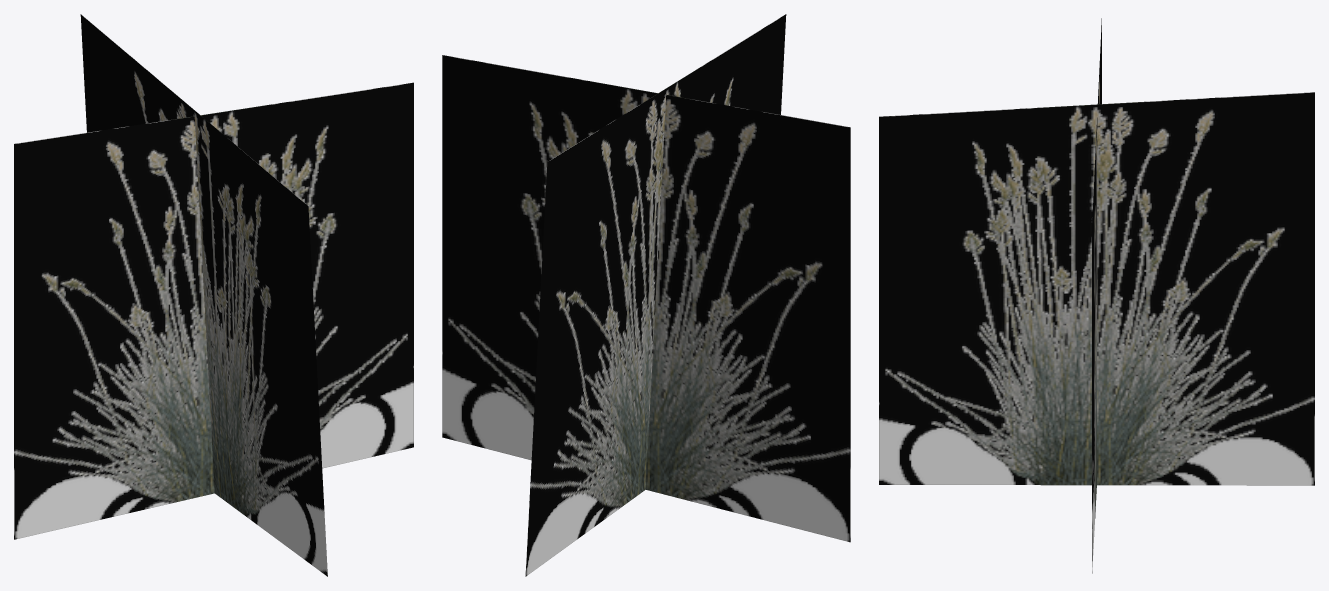
Rendered from dry_plant.glb.
The picture shows the model from 3 angles, left to right: view 1: azimuth 30°, elevation 25°; view 2: azimuth 150°, elevation 25°; view 3: azimuth 270°, elevation 25°; orthographic projection. The views are drawn at different scales.
Visible parts, largest first — view 1: grass 3; view 2: grass 3; view 3: grass 3.
Boxes of the visible parts, x1=… form: grass 3: x1=14, y1=14, x2=413, y2=576; grass 3: x1=442, y1=14, x2=850, y2=576; grass 3: x1=879, y1=18, x2=1314, y2=573.
Size of the model in its own units: 104 by 101 by 104.
1 material, 1 textured.
